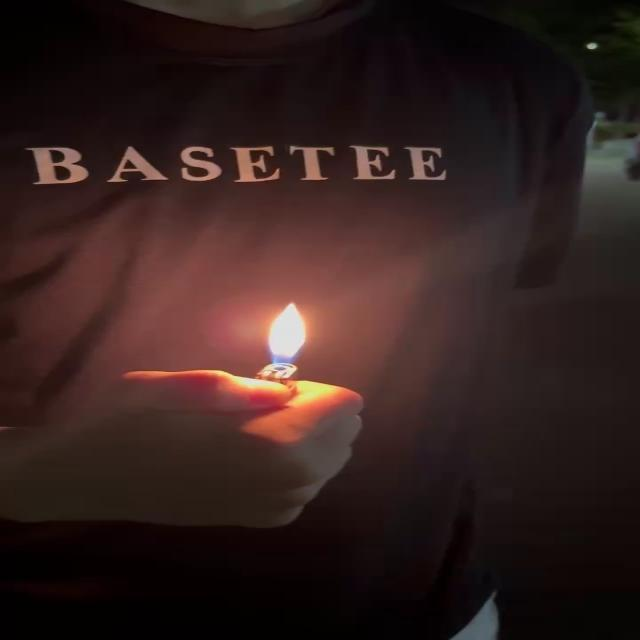Fire: (267, 301, 310, 369)
